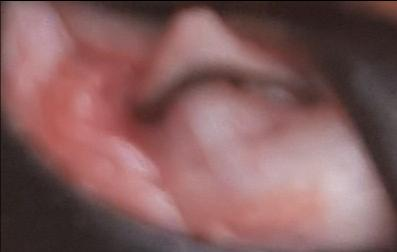eye_membrane: (2, 0, 397, 248)
